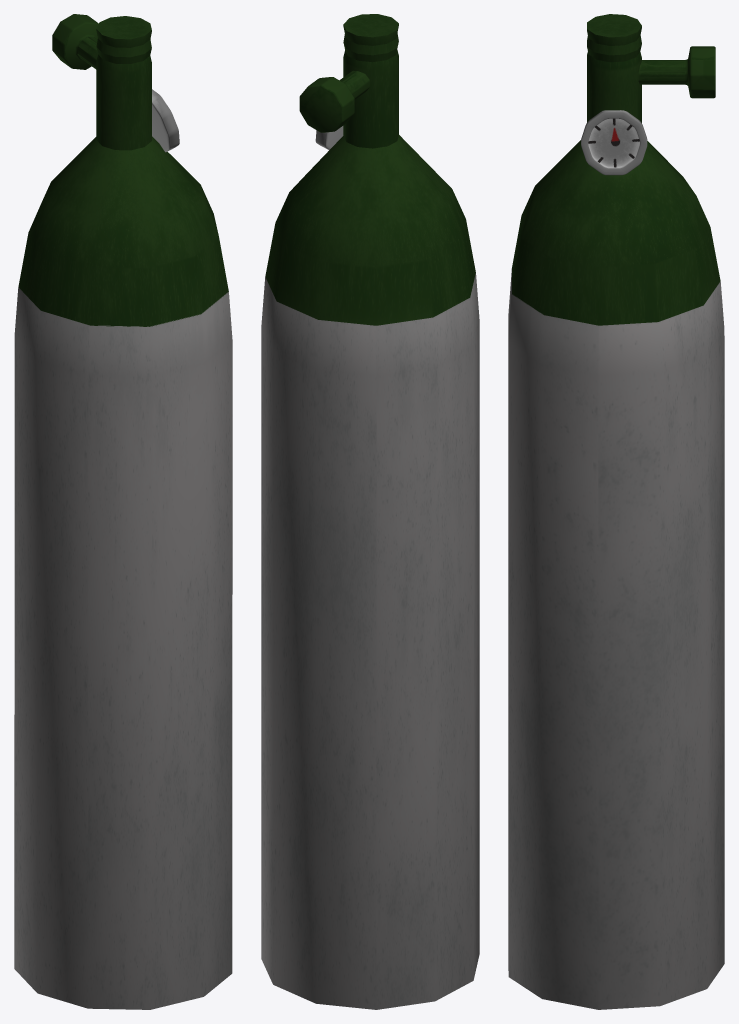
The model's file is Oxygen Tank Whole.fbx.
3 views of the same model, side by side, from view 1: azimuth 30°, elevation 25°; view 2: azimuth 150°, elevation 25°; view 3: azimuth 270°, elevation 25° (orthographic).
Visible parts, largest first — view 1: Oxygen Tank; view 2: Oxygen Tank; view 3: Oxygen Tank.
Part boxes in pixels (x1,y1,x2,y2): Oxygen Tank: (14,14,232,1009); Oxygen Tank: (261,14,479,1009); Oxygen Tank: (508,14,724,1009).
Size of the model in its own units: 7.62 by 36.1 by 7.55.
